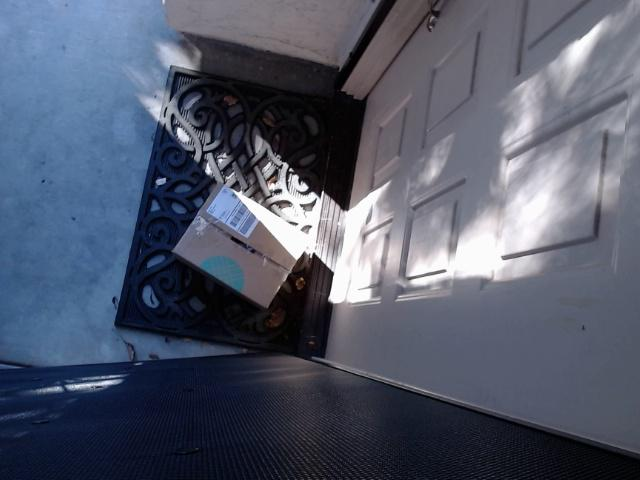box: (170, 182, 308, 309)
